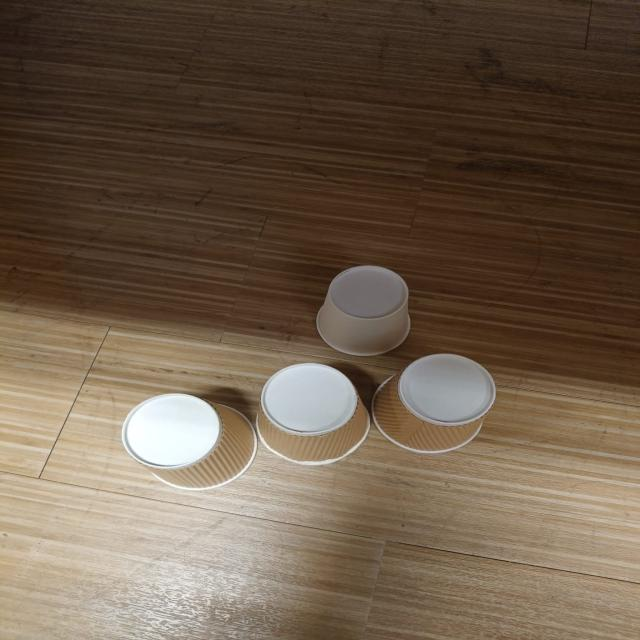Browncup: (121, 394, 257, 492), (369, 354, 497, 453), (256, 361, 370, 464)
Whitecup: (314, 266, 412, 356)
